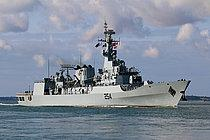MIL_Ship: (15, 22, 192, 109)
